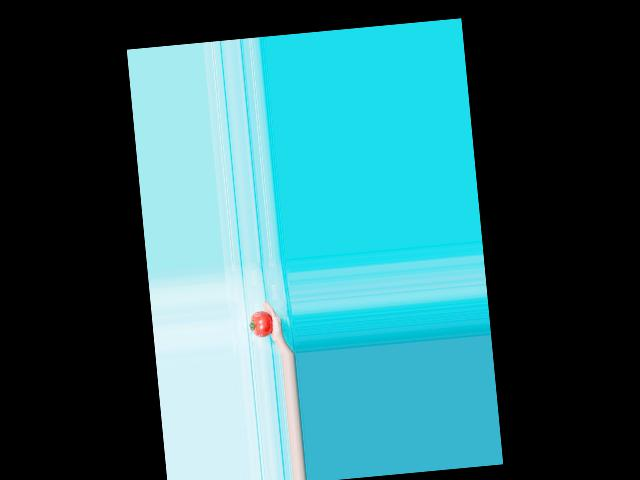tomato: (248, 309, 274, 337)
